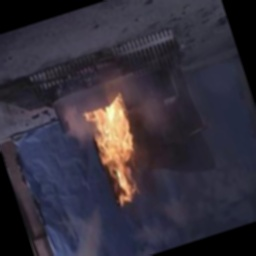fire: (76, 85, 168, 214)
